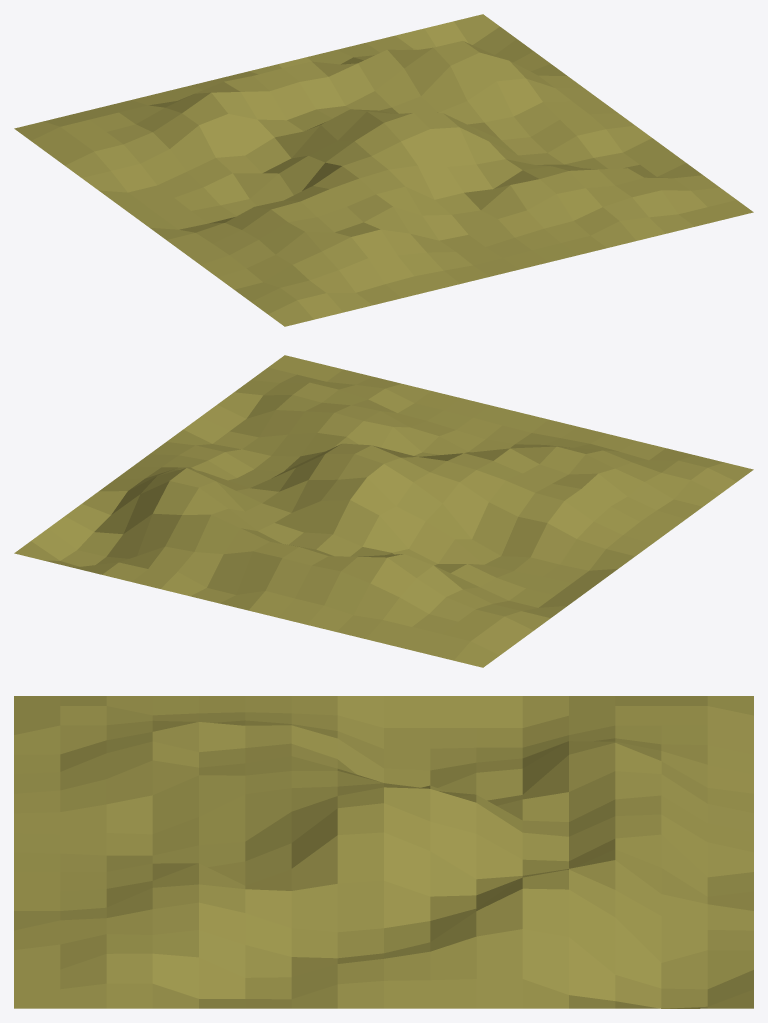
Rendered from Terrain_26_Yellow.fbx.
The picture shows the model from 3 angles, top to bottom: view 1: azimuth 30°, elevation 25°; view 2: azimuth 150°, elevation 25°; view 3: azimuth 270°, elevation 25°; orthographic projection. The views are drawn at different scales.
Visible parts, largest first — view 1: Terrain_26_Yellow; view 2: Terrain_26_Yellow; view 3: Terrain_26_Yellow.
Part boxes in pixels (x1,y1,x2,y2): Terrain_26_Yellow: [14, 14, 753, 326]; Terrain_26_Yellow: [14, 355, 753, 667]; Terrain_26_Yellow: [14, 696, 753, 1008].
Size of the model in its own units: 5000 by 676 by 5000.
